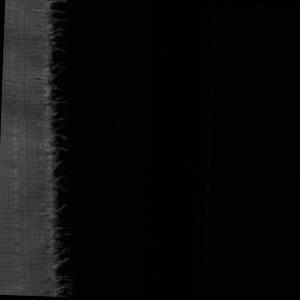Damage: (8, 1, 86, 298)
